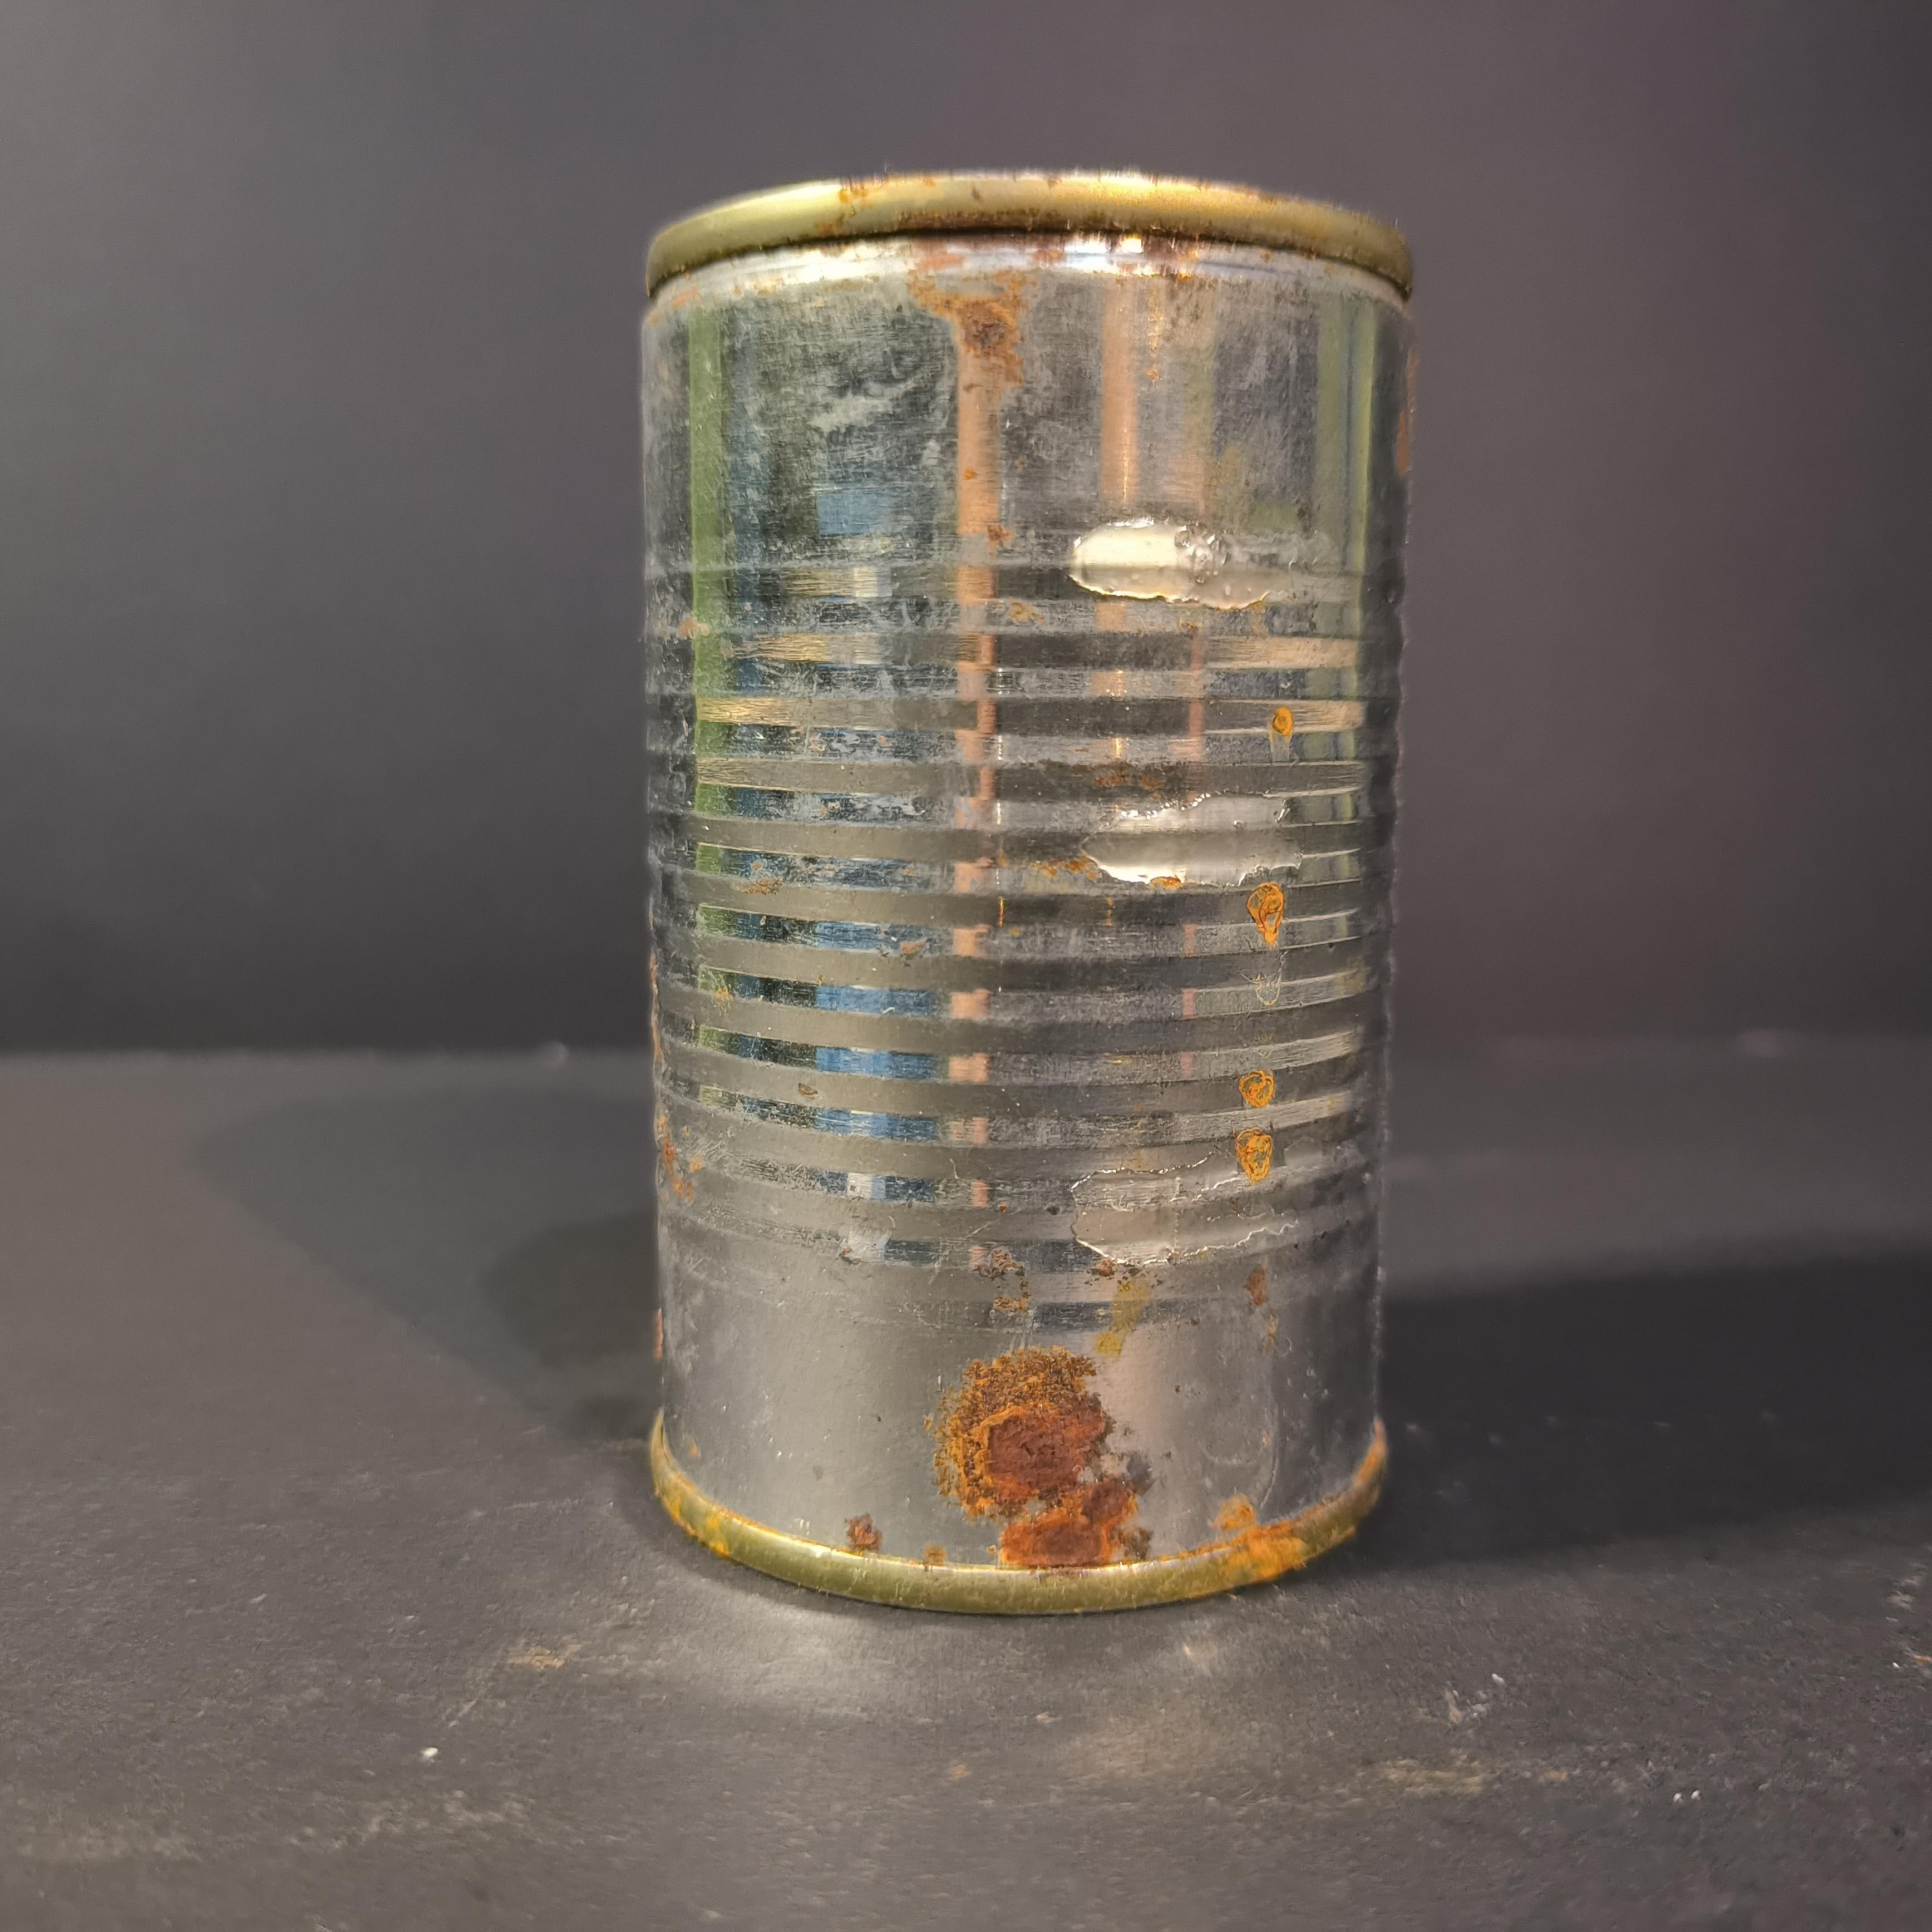Rusted: (602, 145, 1428, 1612)
